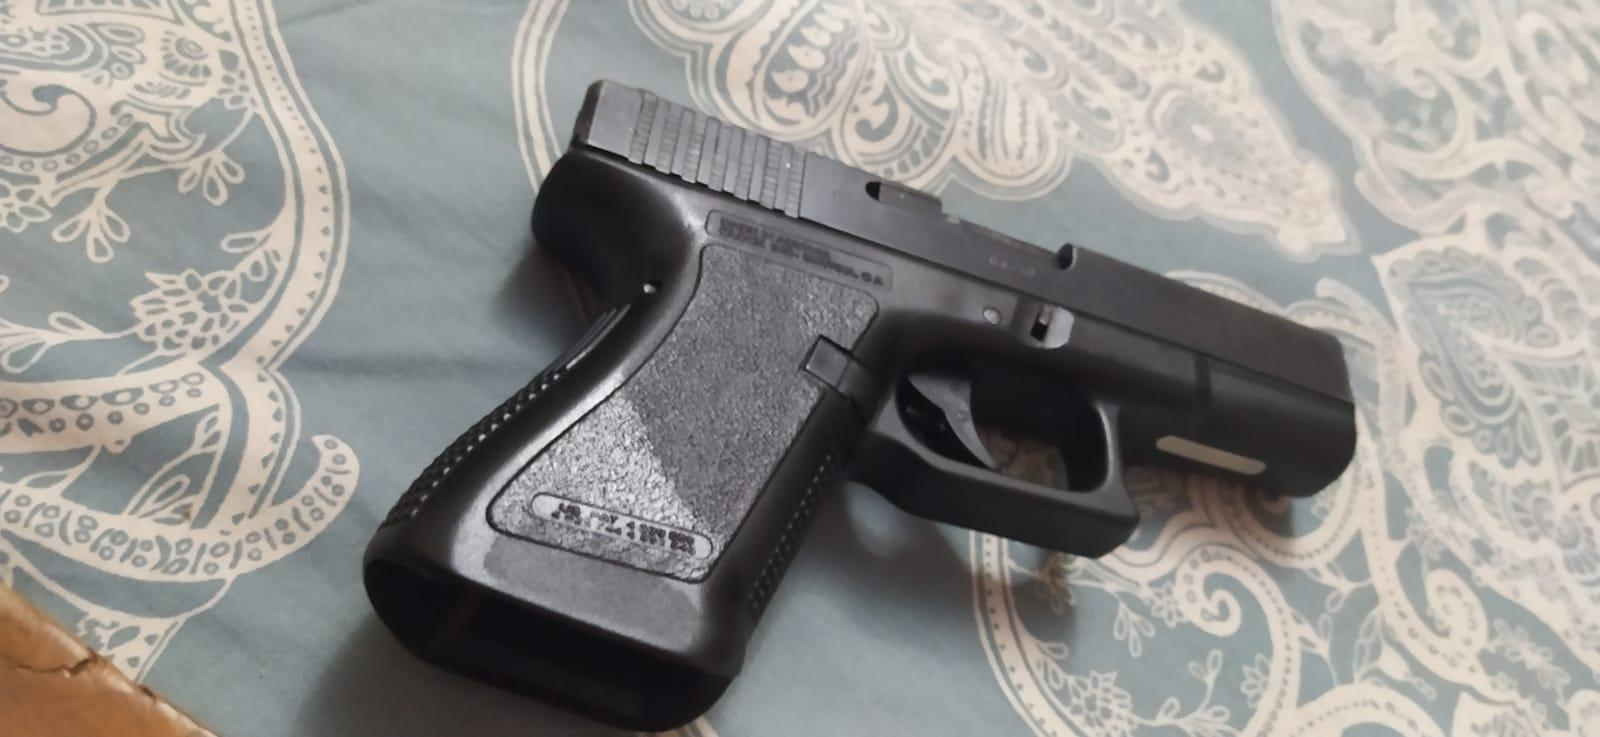weapon: (365, 75, 1358, 734)
